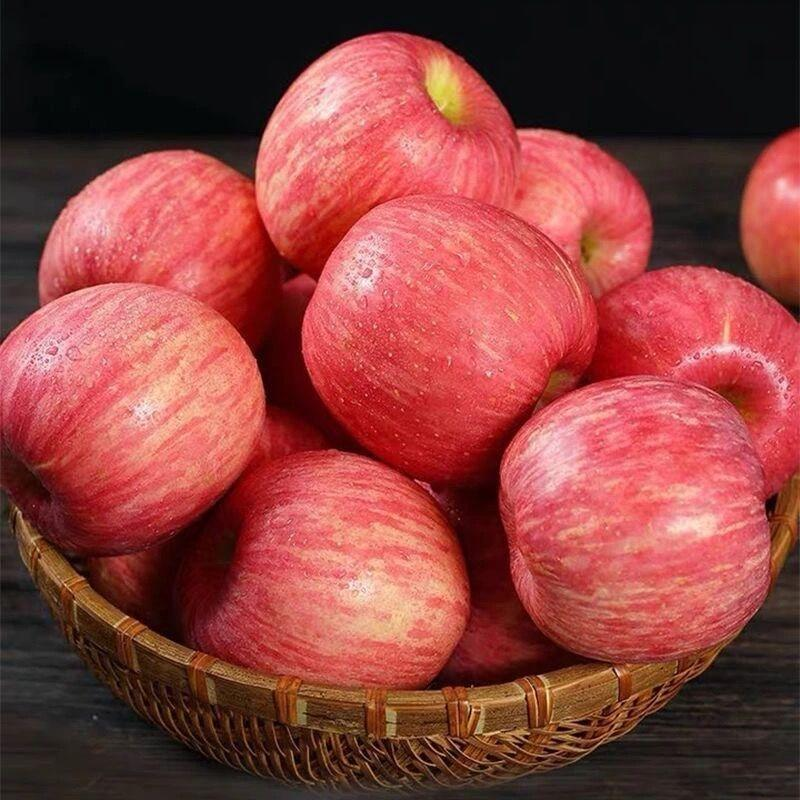apple: (494, 378, 791, 671), (298, 194, 597, 480), (1, 284, 268, 561), (189, 453, 473, 690), (255, 34, 528, 275), (34, 145, 284, 352), (592, 265, 800, 492), (508, 121, 653, 294)
